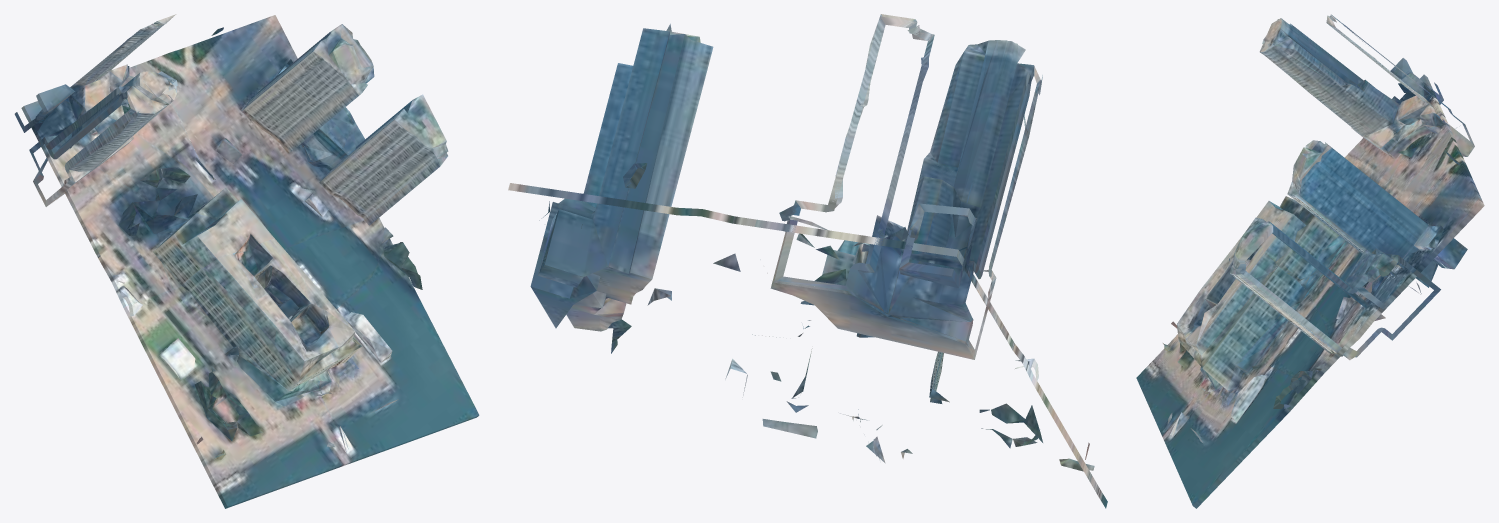
Rendered from AJVsH2zT1-oMBeeKBG20yF51-GeIKABXtygB-ocJ-MfoBpZhYIxoBDKhs05IS7k00D3PERiGx4AblmVBEW3AJfmAySWbXHnPxX1SAG8Nf-ojmss8Q1iOSU74fIkxNIr5fff7Zuvr2n3cYMxsiC-RR0LIyA6-o9fGLQ.glb.
3 views of the same model, side by side, from view 1: azimuth 30°, elevation 25°; view 2: azimuth 150°, elevation 25°; view 3: azimuth 270°, elevation 25° (orthographic). The views are drawn at different scales.
Bounding box in the file's own units: 258 × 300 × 250.
Materials: 2 (2 with a texture image).
